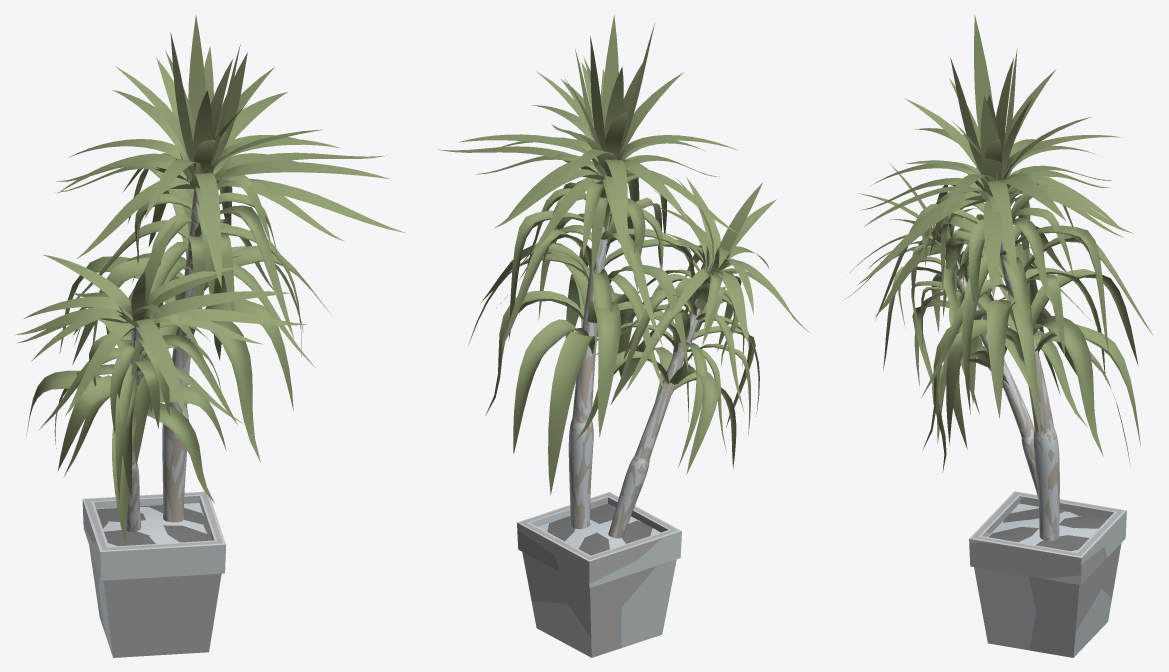
The model's file is planta-en-maceta-2.glb.
3 renders of one model, left to right at view 1: azimuth 30°, elevation 25°; view 2: azimuth 150°, elevation 25°; view 3: azimuth 270°, elevation 25°, orthographic. The views are drawn at different scales.
Visible parts, largest first — view 1: SketchUp, SketchUp.004, SketchUp.028, SketchUp.062; view 2: SketchUp, SketchUp.004, SketchUp.028, SketchUp.062; view 3: SketchUp, SketchUp.004, SketchUp.028, SketchUp.062.
Part boxes in pixels (<box>): SketchUp: <box>15,15,406,543</box>; SketchUp.004: <box>82,189,225,656</box>; SketchUp.028: <box>82,492,222,657</box>; SketchUp.062: <box>96,505,211,546</box>; SketchUp: <box>438,15,809,494</box>; SketchUp.004: <box>517,183,714,657</box>; SketchUp.028: <box>517,493,678,657</box>; SketchUp.062: <box>547,503,652,555</box>; SketchUp: <box>846,14,1153,472</box>; SketchUp.004: <box>957,238,1126,657</box>; SketchUp.028: <box>969,492,1123,657</box>; SketchUp.062: <box>988,508,1107,551</box>.
Bounding box in the file's own units: 1.17 × 1.92 × 0.8957.
